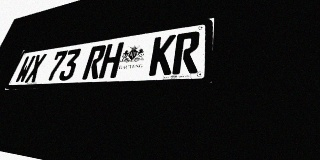3: (57, 48, 82, 81)
7: (44, 50, 68, 82)
H: (98, 42, 124, 79)
K: (148, 34, 176, 76)
R: (172, 31, 201, 75), (82, 44, 107, 80)
W: (14, 55, 36, 83)
X: (24, 53, 47, 83)
